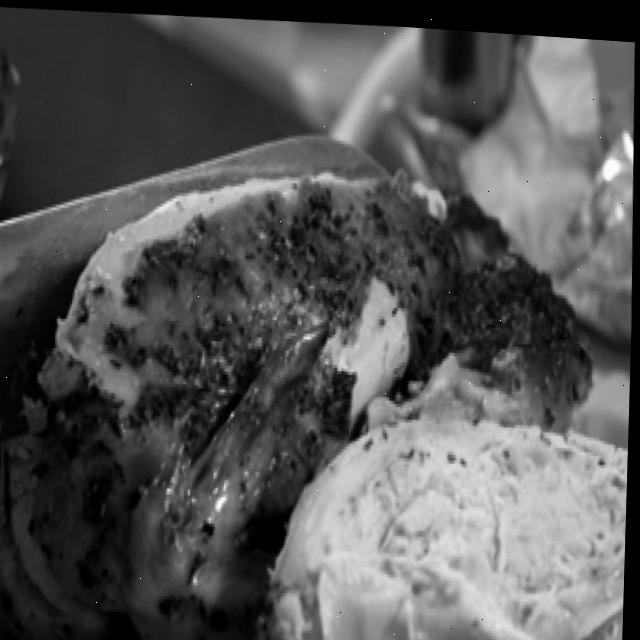鸡肉料理 含炸鸡: (0, 144, 637, 640)
